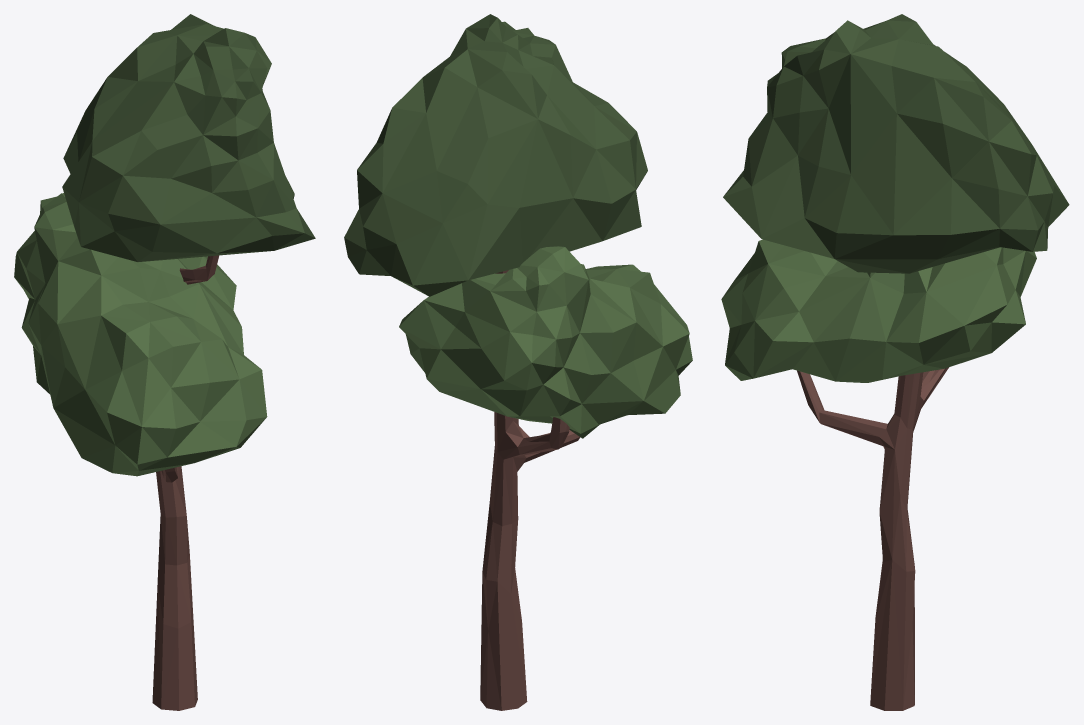
File: CommonTree_3.lod1.glb
3 renders of one model, left to right at view 1: azimuth 30°, elevation 25°; view 2: azimuth 150°, elevation 25°; view 3: azimuth 270°, elevation 25°, orthographic. The views are drawn at different scales.
Visible parts, largest first — view 1: CommonTree_3; view 2: CommonTree_3; view 3: CommonTree_3.
Part boxes in pixels (bbox=[...]): CommonTree_3: bbox=[14, 14, 315, 710]; CommonTree_3: bbox=[344, 14, 692, 710]; CommonTree_3: bbox=[721, 14, 1069, 710].
Size of the model in its own units: 1.28 by 3.45 by 1.56.
